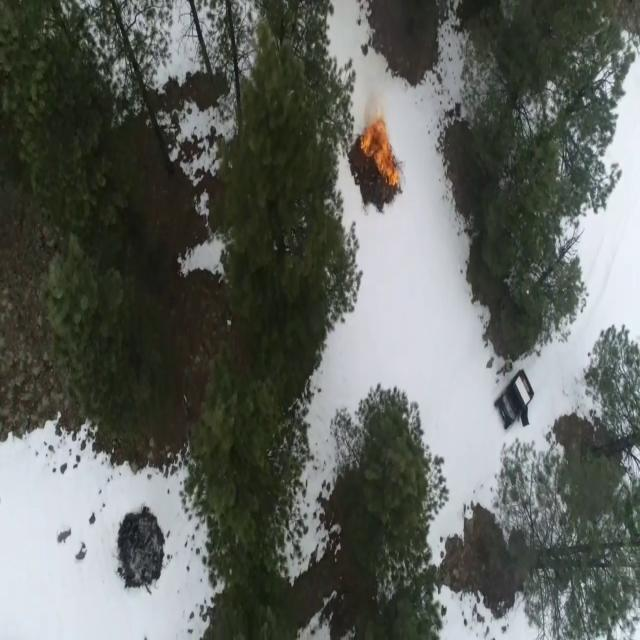fire: (362, 116, 400, 186)
